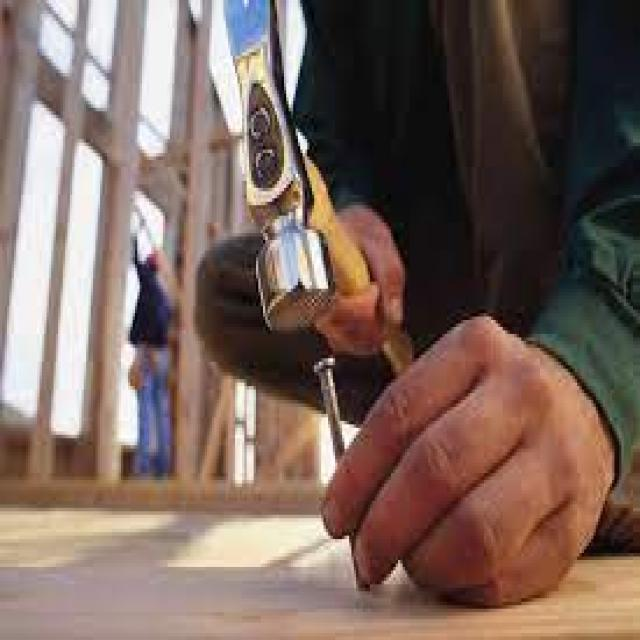hammer: (218, 0, 438, 348)
